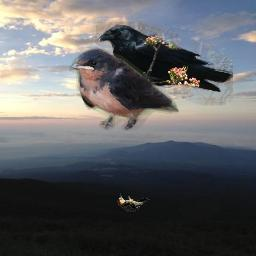Crow: (93, 22, 233, 115)
Swallow: (69, 47, 179, 131)
Woodpecker: (115, 192, 151, 212)
